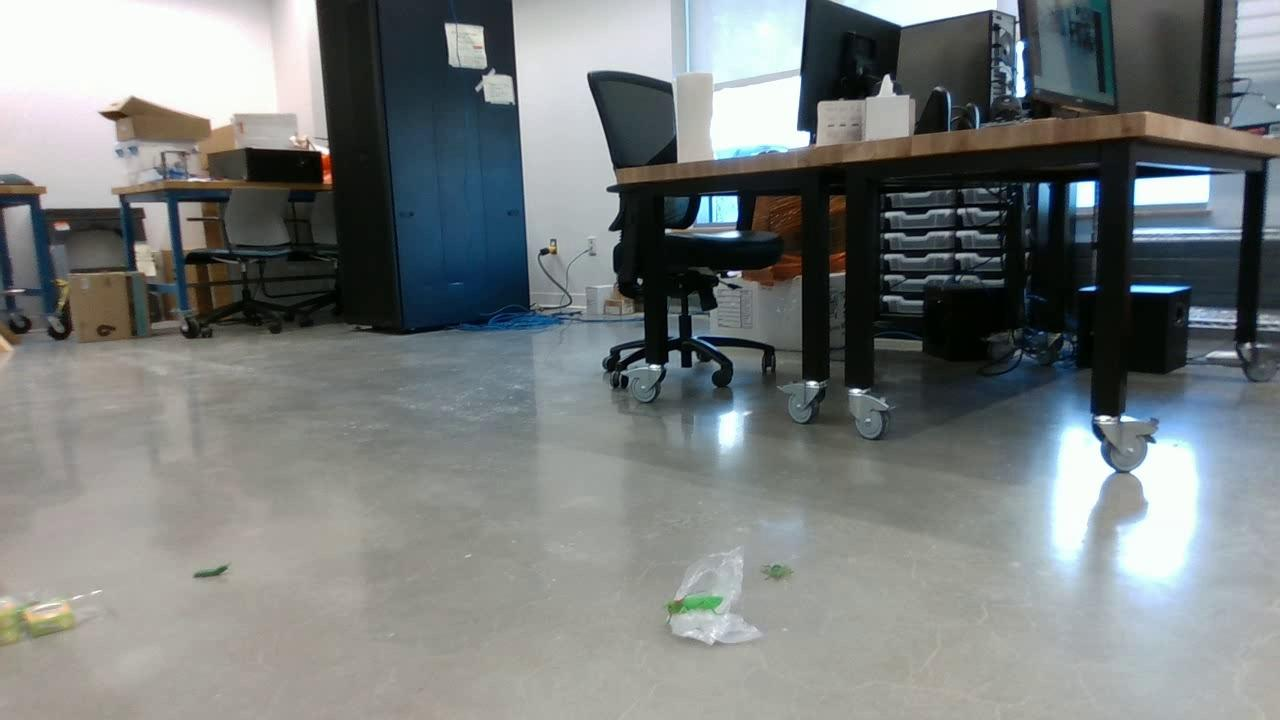grasshopper: (665, 589, 723, 622)
